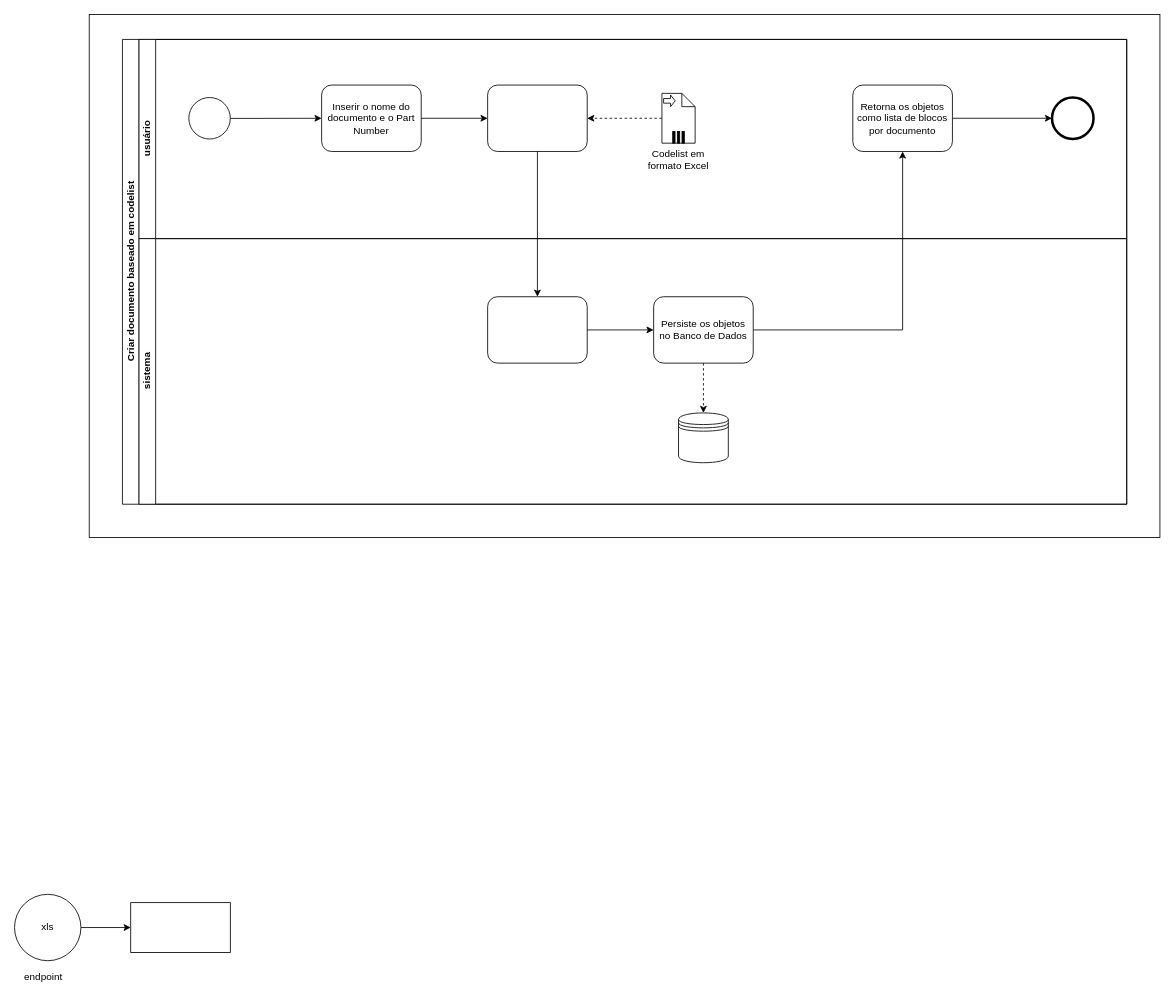
This 1174x1000 diagram has some shape labels left out. Each missing label, with the centre of its shape:
Importar o codelist: the point at 537,117
Lê a primeira linha com os nomes dos traços: the point at 180,927
Lê os dados e os salva em objetos: the point at 537,329
